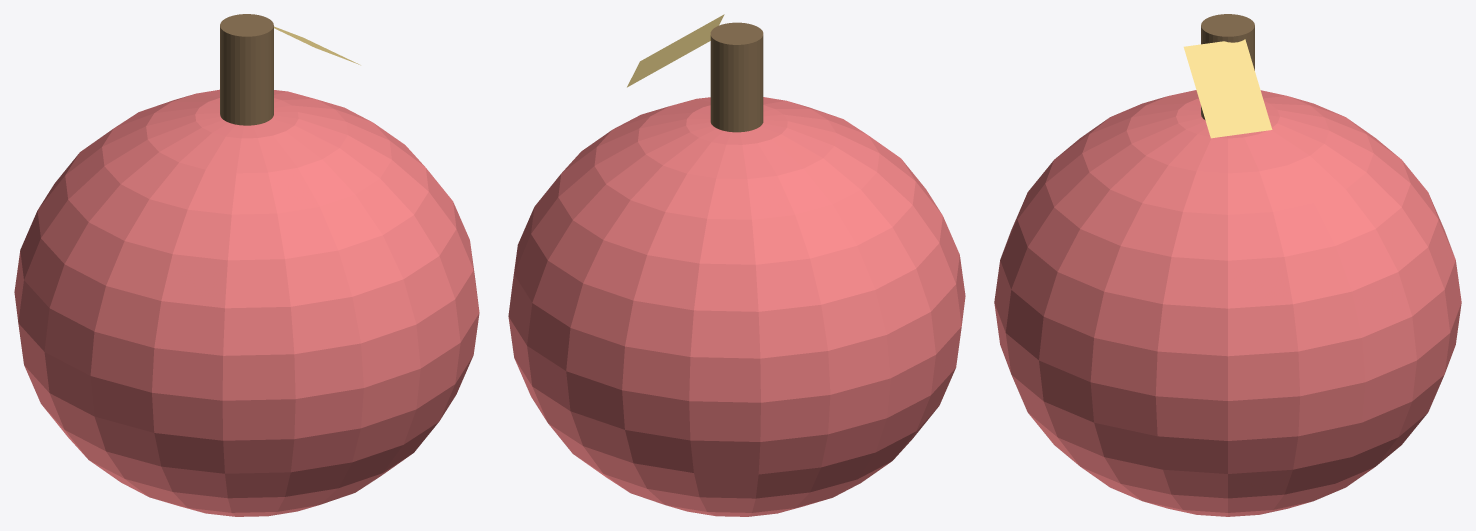
The model's file is pickup.apple.v2.glb.
The picture shows the model from 3 angles, left to right: view 1: azimuth 30°, elevation 25°; view 2: azimuth 150°, elevation 25°; view 3: azimuth 270°, elevation 25°; orthographic projection.
Visible parts, largest first — view 1: pickup.apple.v2_body, pickup.apple.v2_stem; view 2: pickup.apple.v2_body, pickup.apple.v2_stem, pickup.apple.v2_leaf; view 3: pickup.apple.v2_body, pickup.apple.v2_leaf, pickup.apple.v2_stem.
Boxes of the visible parts, x1=… form: pickup.apple.v2_body: x1=14, y1=89, x2=479, y2=516; pickup.apple.v2_stem: x1=220, y1=14, x2=273, y2=125; pickup.apple.v2_body: x1=508, y1=97, x2=965, y2=516; pickup.apple.v2_stem: x1=710, y1=22, x2=763, y2=132; pickup.apple.v2_leaf: x1=627, y1=14, x2=724, y2=87; pickup.apple.v2_body: x1=994, y1=90, x2=1461, y2=516; pickup.apple.v2_leaf: x1=1183, y1=39, x2=1272, y2=138; pickup.apple.v2_stem: x1=1201, y1=14, x2=1254, y2=120.
Bounding box in the file's own units: 0.52 × 0.574 × 0.52.
